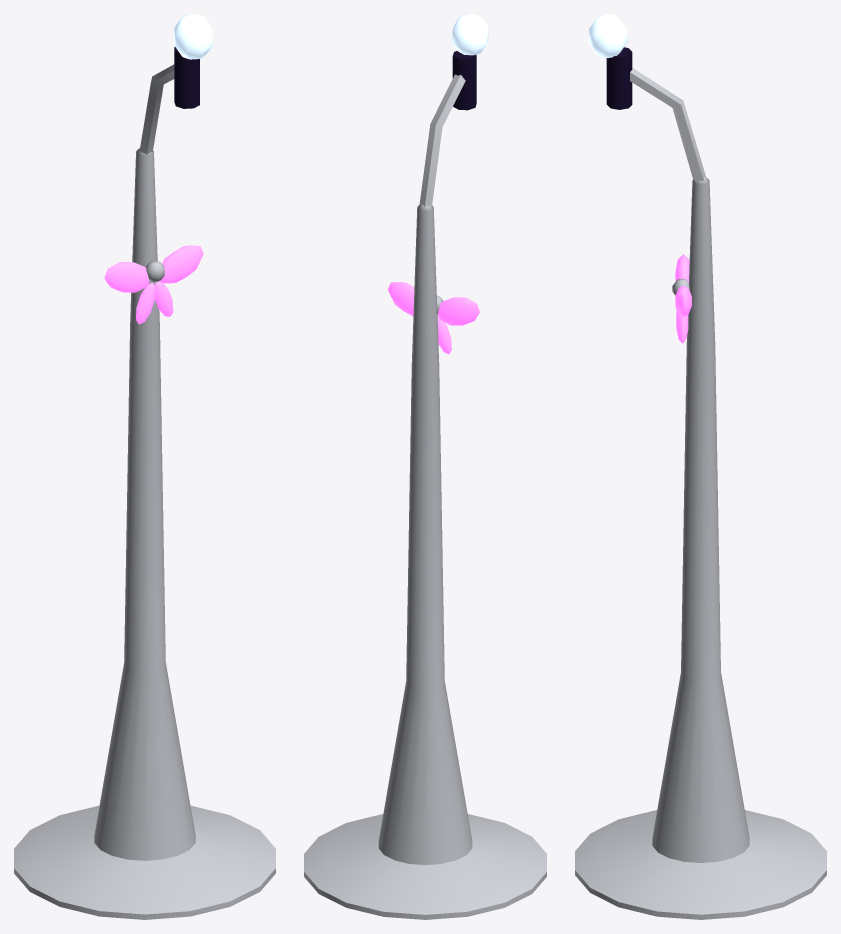
Rendered from mic_stand_stage.glb.
3 renders of one model, left to right at view 1: azimuth 30°, elevation 25°; view 2: azimuth 150°, elevation 25°; view 3: azimuth 270°, elevation 25°, orthographic. The views are drawn at different scales.
Parts seen in each view (by area): view 1: mic_stand_stage; view 2: mic_stand_stage; view 3: mic_stand_stage.
Boxes of the visible parts, <box> form: mic_stand_stage: <box>14,14,275,919</box>; mic_stand_stage: <box>304,14,546,919</box>; mic_stand_stage: <box>575,14,826,919</box>.
Size of the model in its own units: 0.44 by 1.62 by 0.4333.
